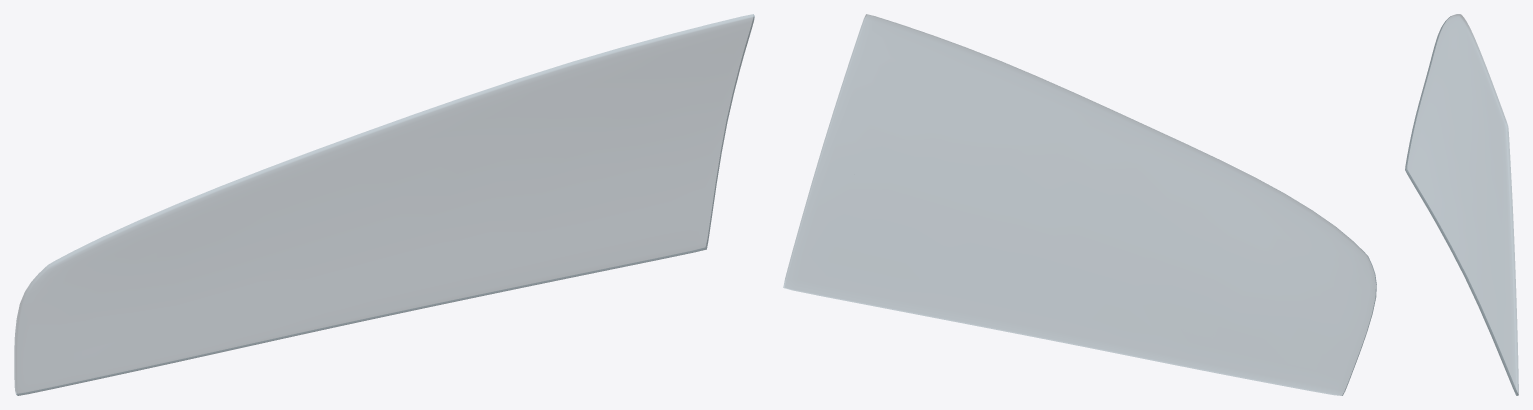
3 renders of one model, left to right at view 1: azimuth 30°, elevation 25°; view 2: azimuth 150°, elevation 25°; view 3: azimuth 270°, elevation 25°, orthographic. The views are drawn at different scales.
Visible parts, largest first — view 1: SM_DodgeCharger_Door_RL_Glass_Ext2; view 2: SM_DodgeCharger_Door_RL_Glass_Ext2; view 3: SM_DodgeCharger_Door_RL_Glass_Ext2.
Boxes of the visible parts, <box> form: SM_DodgeCharger_Door_RL_Glass_Ext2: <box>14,14,754,395</box>; SM_DodgeCharger_Door_RL_Glass_Ext2: <box>783,14,1376,395</box>; SM_DodgeCharger_Door_RL_Glass_Ext2: <box>1405,14,1518,395</box>.
Size of the model in its own units: 0.8101 by 0.3214 by 0.1527.
